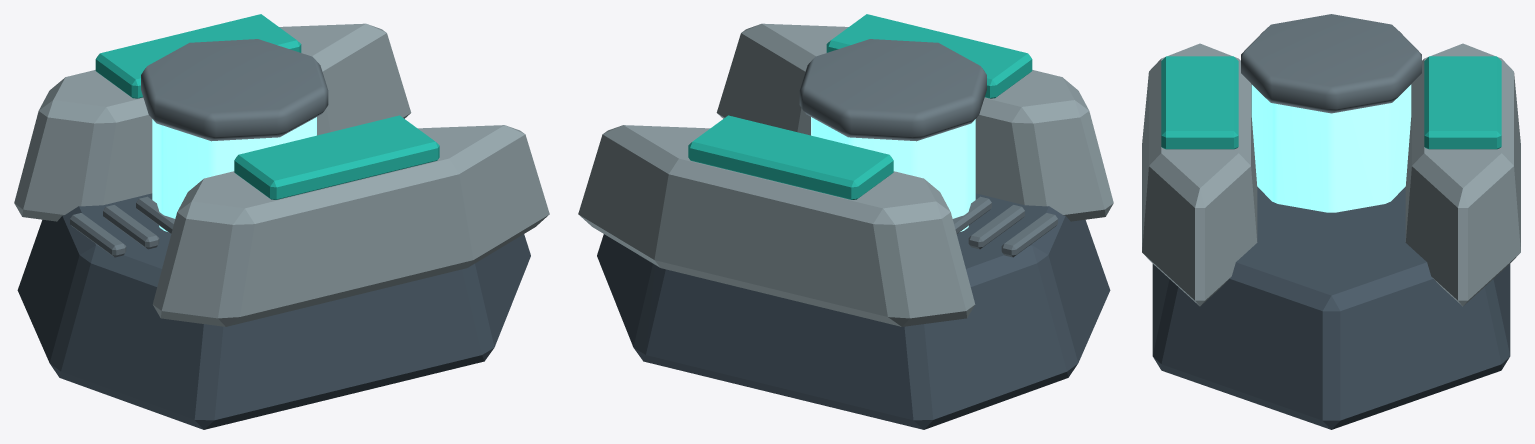
File: SM_Drudge_Body.fbx
3 views of the same model, side by side, from view 1: azimuth 30°, elevation 25°; view 2: azimuth 150°, elevation 25°; view 3: azimuth 270°, elevation 25° (orthographic). The views are drawn at different scales.
Visible parts, largest first — view 1: SM_Drudge_Body; view 2: SM_Drudge_Body; view 3: SM_Drudge_Body.
Part boxes in pixels (left/top/right/bottom): SM_Drudge_Body: left=14, top=14, right=549, bottom=429; SM_Drudge_Body: left=578, top=14, right=1113, bottom=429; SM_Drudge_Body: left=1142, top=14, right=1520, bottom=429.
Bounding box in the file's own units: 27.13 × 19.91 × 14.27.
